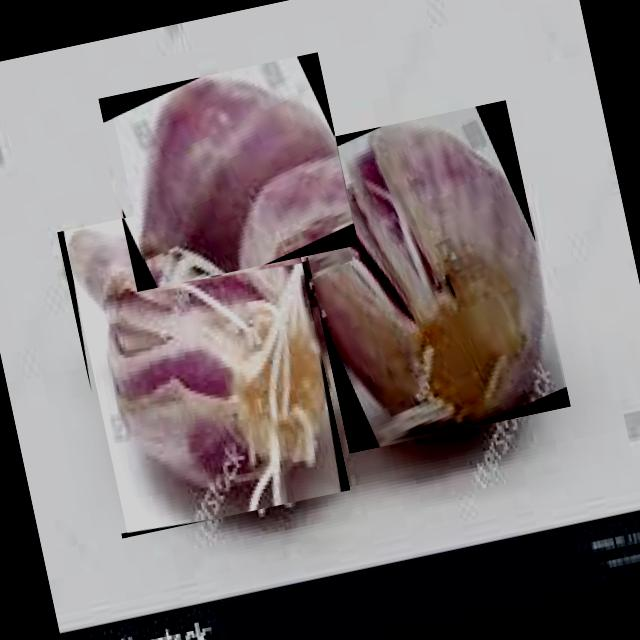rotten: (70, 203, 325, 511), (309, 125, 543, 433), (143, 77, 337, 271)
